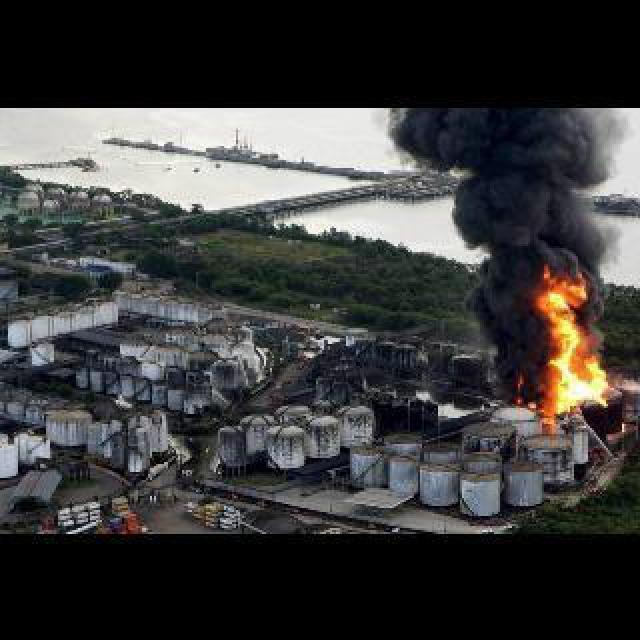Fire: (520, 258, 616, 414)
